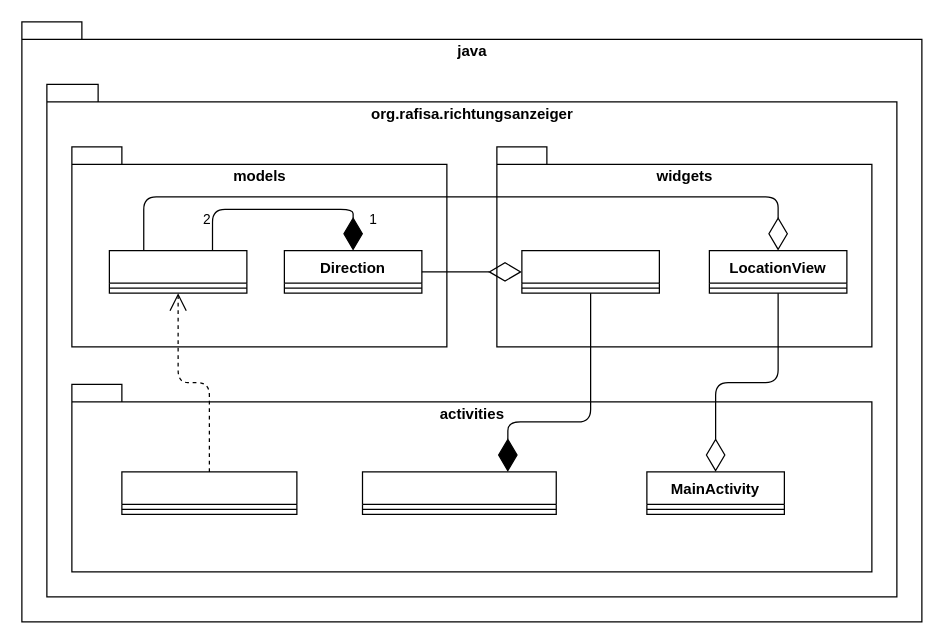
Some shapes in this 944 by 644 pixel diagram are drawn without their labels. The centre of each missing label's shape, as x and y in pixels:
CompassView: the point at 590,271
EditLocationActivity: the point at 209,492
Location: the point at 177,271
ShowDirectionActivity: the point at 458,492
